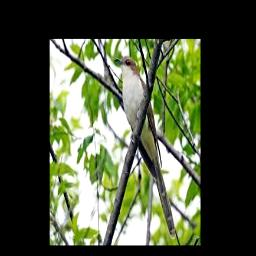Cuckoo: (113, 57, 175, 239)
